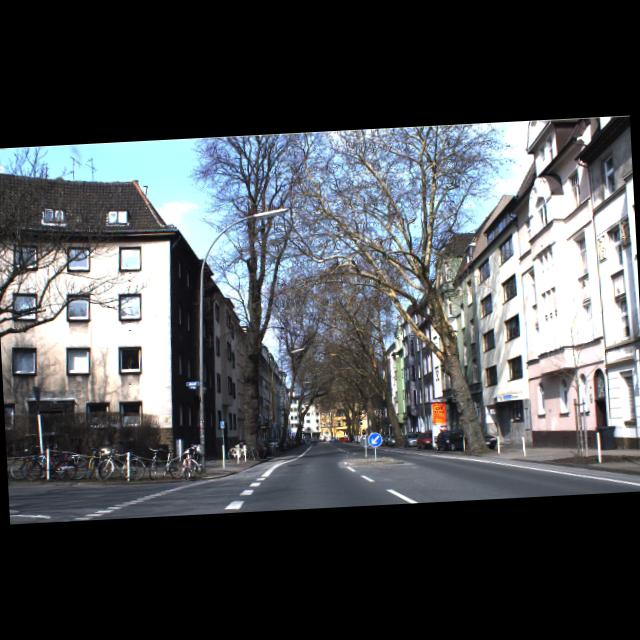mandatory: (368, 433, 383, 448)
